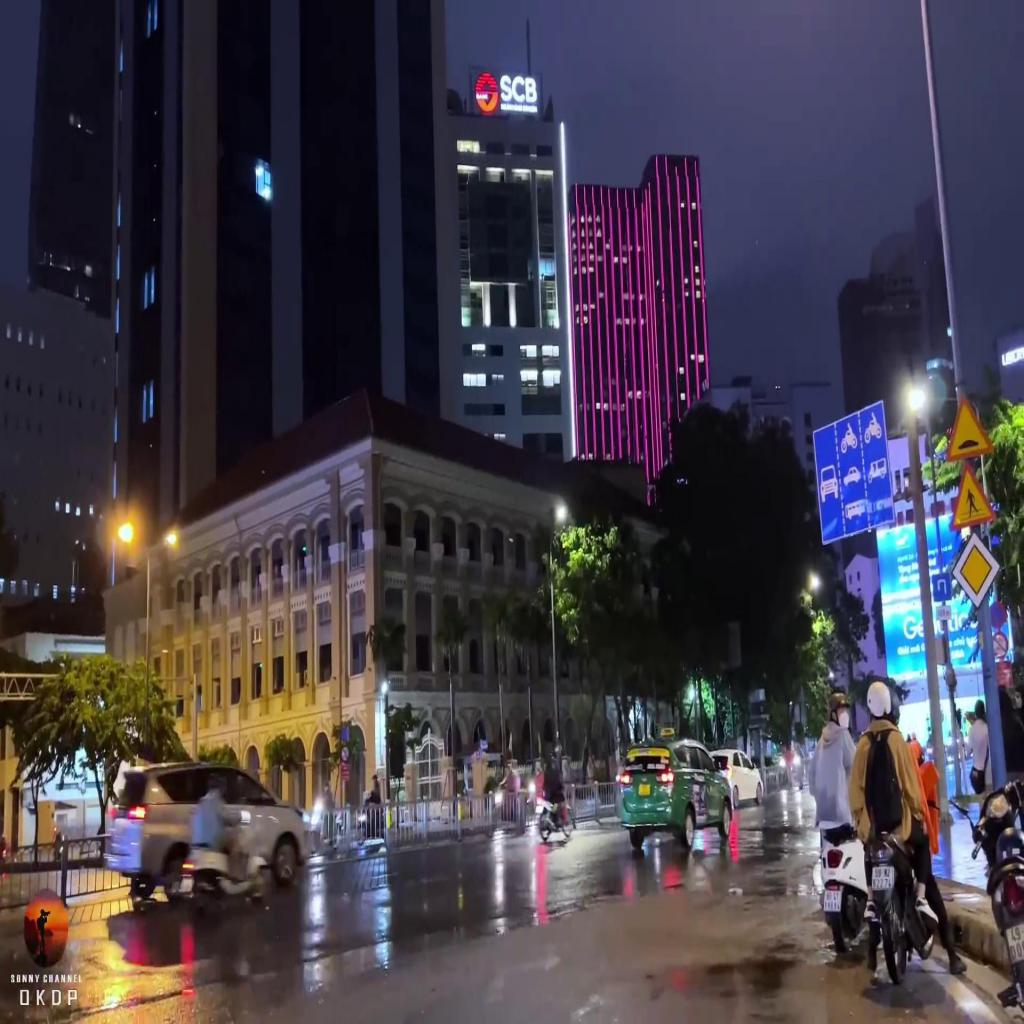cho_quay_xe: (932, 574, 951, 601)
chu_y_nguoi_di_bo_cat_ngang: (950, 462, 997, 532)
duong_co_song_map_mo_nhan_tao: (946, 394, 994, 464)
duong_uu_tien: (952, 531, 1001, 609)
lan_duong_cho_tung_xe_theo_vach_ke_duong: (810, 401, 895, 545)
